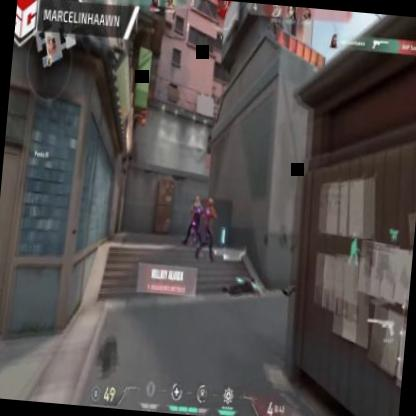enemy: (195, 197, 219, 261), (182, 195, 206, 250)
enemy_head: (208, 198, 214, 208), (196, 196, 199, 204)
